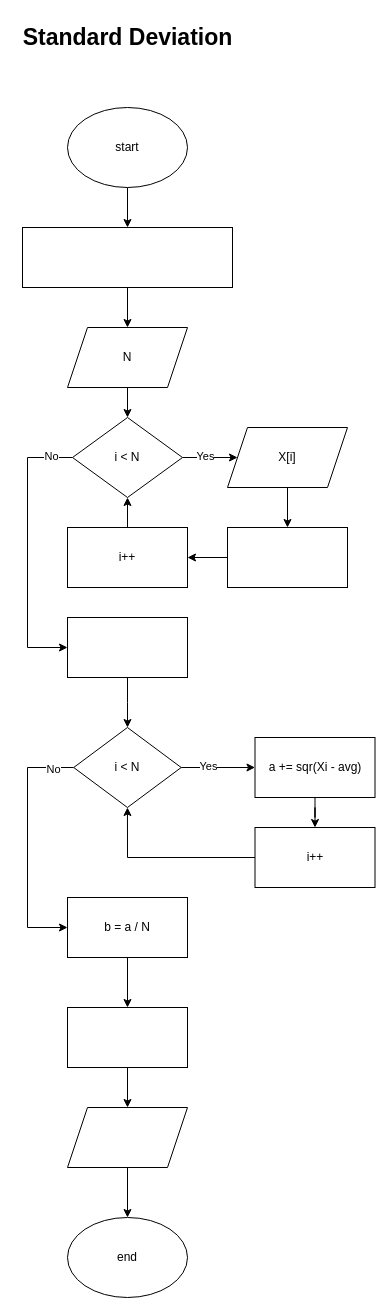
The diagram is 392 pixels wide and 1315 high, and some of its shapes have lost their labels. The shapes that lost their labels are listed below. From the top down, each one's centre as x and y in pixels, then its label:
At point (127, 257): "N, avg, a, b =0; X =[];".
At point (287, 557): "avg += X[i]".
At point (127, 647): "avg /= N".
At point (127, 1037): "segma = sqrt(b)".
At point (127, 1137): "segma".
